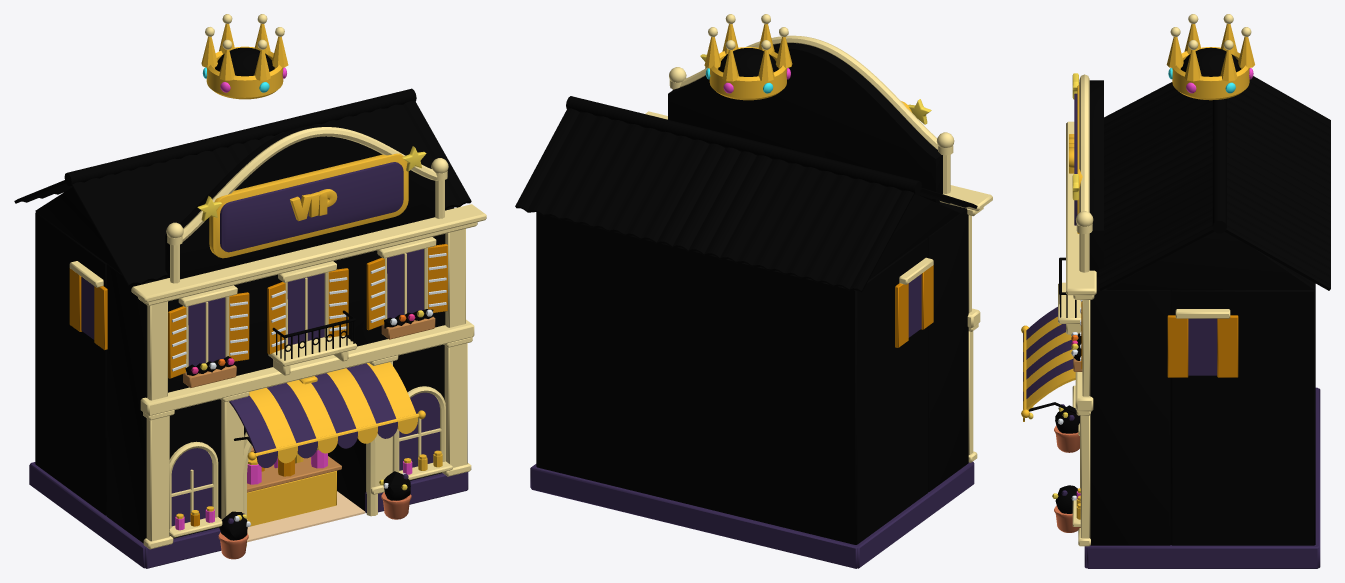
File: lobby_shop_vip.fbx
3 renders of one model, left to right at view 1: azimuth 30°, elevation 25°; view 2: azimuth 150°, elevation 25°; view 3: azimuth 270°, elevation 25°, orthographic.
Visible parts, largest first — view 1: lobby_shop_vip, lobby_shop_vip_Sign; view 2: lobby_shop_vip; view 3: lobby_shop_vip, lobby_shop_vip_Sign.
Boxes of the visible parts, x1,y1,x2,y2 form: lobby_shop_vip: (14, 14, 486, 568); lobby_shop_vip_Sign: (197, 146, 426, 258); lobby_shop_vip: (515, 14, 992, 568); lobby_shop_vip: (1021, 14, 1330, 568); lobby_shop_vip_Sign: (1069, 73, 1082, 233).
Size of the model in its own units: 25 by 31.67 by 19.25.
2 materials, 2 textured.
